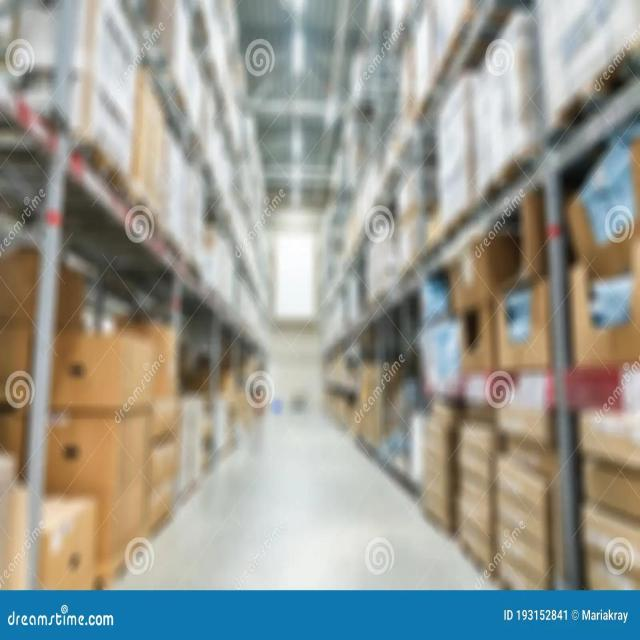box: (0, 240, 180, 574), (99, 8, 237, 220), (459, 425, 637, 587), (456, 247, 634, 408), (493, 434, 550, 578), (52, 419, 140, 480)
